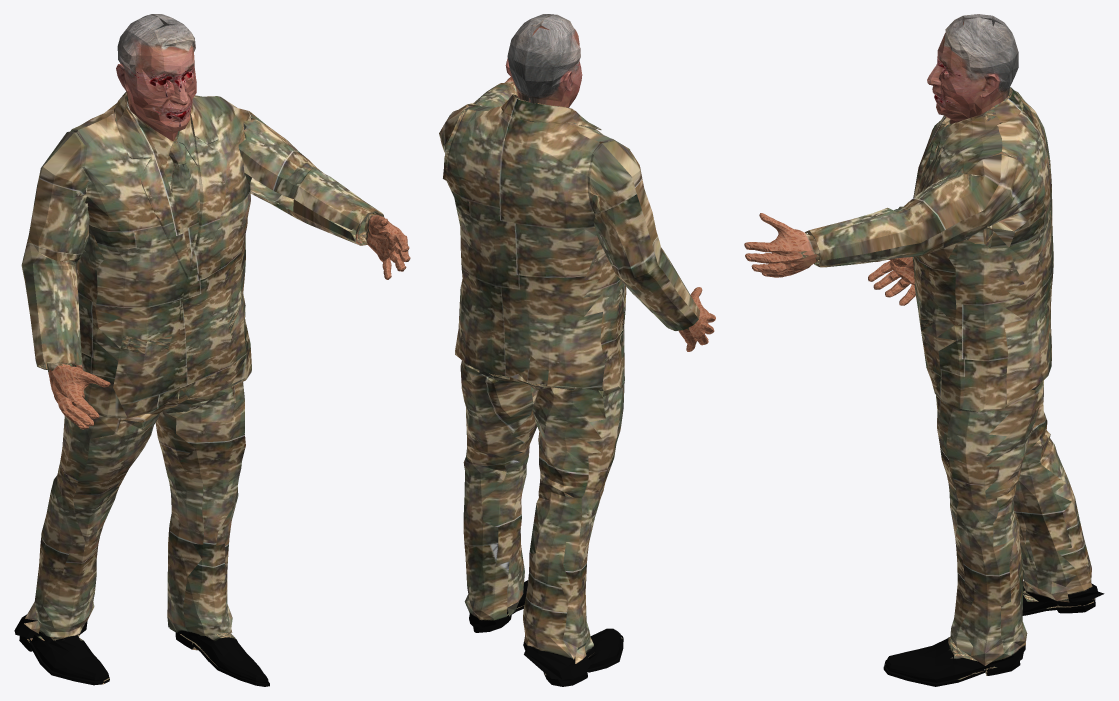
Rendered from zombie_000037.obj.
The picture shows the model from 3 angles, left to right: view 1: azimuth 30°, elevation 25°; view 2: azimuth 150°, elevation 25°; view 3: azimuth 270°, elevation 25°; orthographic projection. The views are drawn at different scales.
Parts seen in each view (by area): view 1: Suit_coat_orig_9___De, objGeo_Hea_orig_9___D; view 2: Suit_coat_orig_9___De, objGeo_Hea_orig_9___D; view 3: Suit_coat_orig_9___De, objGeo_Hea_orig_9___D.
Part boxes in pixels (bbox=[...]): Suit_coat_orig_9___De: bbox=[14, 91, 410, 686]; objGeo_Hea_orig_9___D: bbox=[116, 14, 196, 140]; Suit_coat_orig_9___De: bbox=[439, 77, 715, 686]; objGeo_Hea_orig_9___D: bbox=[505, 14, 582, 107]; Suit_coat_orig_9___De: bbox=[744, 87, 1104, 686]; objGeo_Hea_orig_9___D: bbox=[927, 14, 1018, 123].
Size of the model in its own units: 0.8671 by 1.9 by 0.9787.
